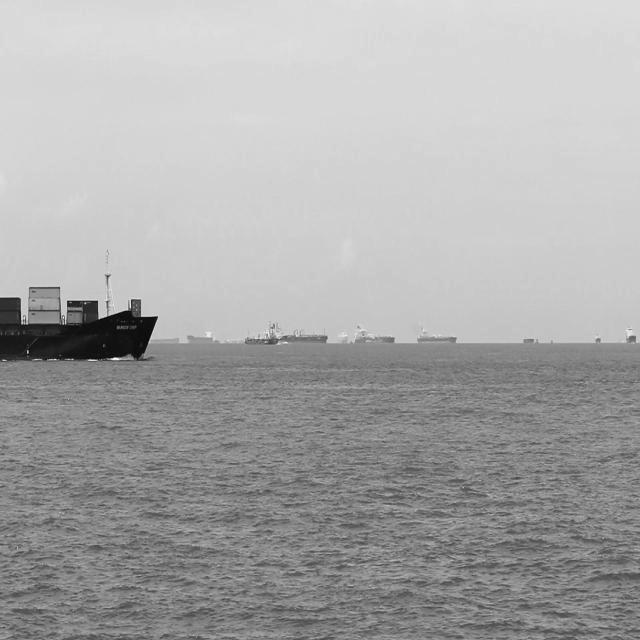ship: (0, 243, 158, 361), (356, 316, 398, 344), (415, 322, 462, 344), (244, 322, 286, 344), (284, 325, 332, 343), (187, 324, 223, 346), (622, 319, 640, 347), (148, 333, 184, 346), (522, 328, 542, 351), (336, 323, 353, 347), (226, 334, 252, 346), (593, 324, 607, 346)
